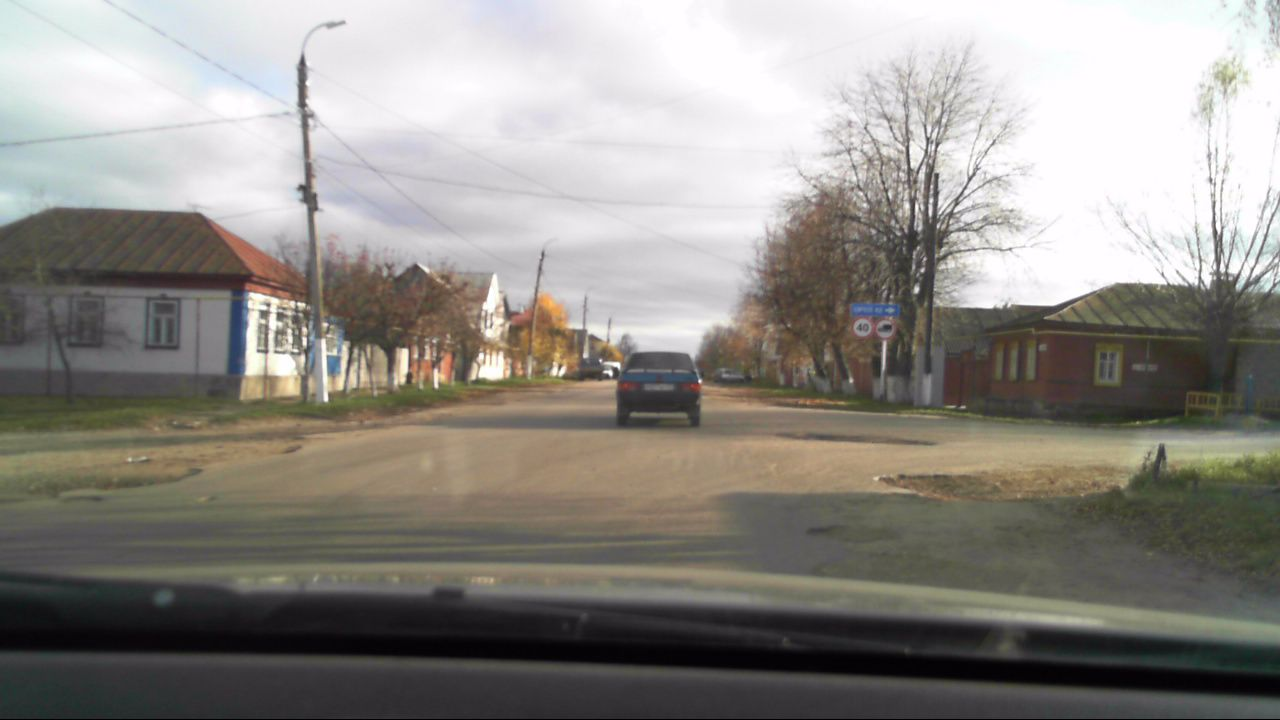speed_warning_40: (853, 319, 872, 340)
